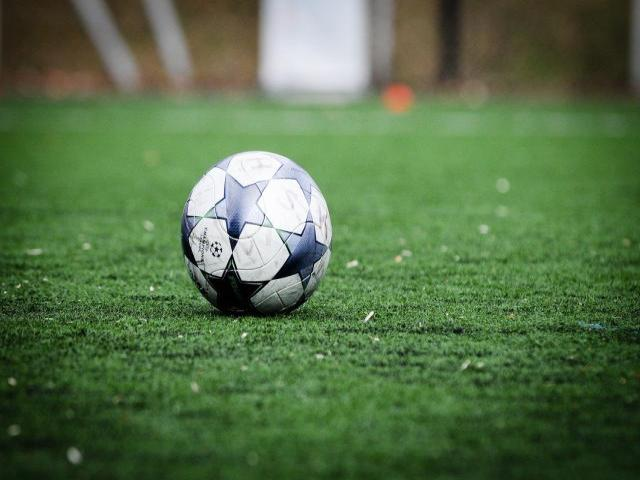round ball: (182, 151, 332, 315)
